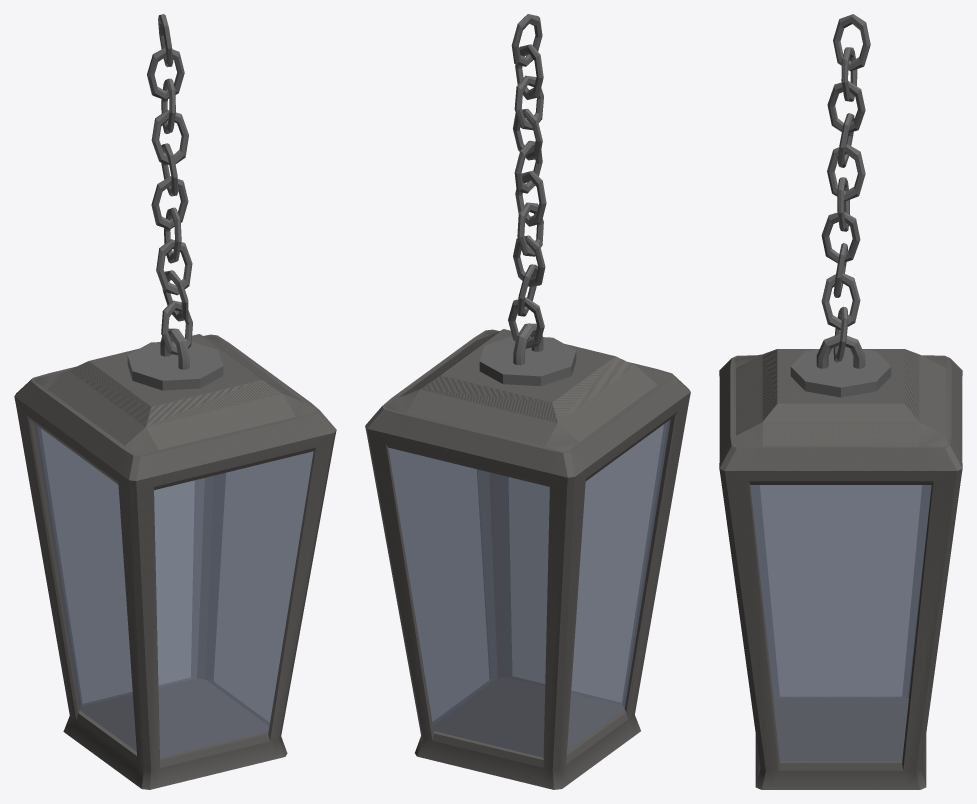
The model's file is Lantern_With_Chain.fbx.
3 renders of one model, left to right at view 1: azimuth 30°, elevation 25°; view 2: azimuth 150°, elevation 25°; view 3: azimuth 270°, elevation 25°, orthographic.
Visible parts, largest first — view 1: pCube5, pCube4, pTorus19, pTorus16, pTorus22, pTorus23, pTorus15, pTorus17, pTorus24, pTorus20; view 2: pCube5, pCube4, pTorus21, pTorus15, pTorus16, pTorus23, pTorus20, pTorus22, pTorus24, pTorus19, pTorus25; view 3: pCube5, pCube4, pTorus21, pTorus17, pTorus25, pTorus24, pTorus20, pTorus22, pTorus23, pTorus15, pTorus19, pTorus16.
Part boxes in pixels (x1=…): pCube5: x1=14, y1=328, x2=336, y2=789; pCube4: x1=34, y1=423, x2=313, y2=757; pTorus19: x1=151, y1=110, x2=188, y2=164; pTorus16: x1=156, y1=239, x2=192, y2=295; pTorus22: x1=147, y1=47, x2=184, y2=100; pTorus23: x1=151, y1=176, x2=188, y2=229; pTorus15: x1=161, y1=300, x2=192, y2=355; pTorus17: x1=162, y1=270, x2=188, y2=321; pTorus24: x1=164, y1=207, x2=181, y2=263; pTorus20: x1=161, y1=78, x2=175, y2=133; pCube5: x1=365, y1=323, x2=690, y2=789; pCube4: x1=388, y1=419, x2=670, y2=757; pTorus21: x1=511, y1=14, x2=542, y2=66; pTorus15: x1=508, y1=297, x2=544, y2=348; pTorus16: x1=513, y1=235, x2=545, y2=286; pTorus23: x1=515, y1=170, x2=546, y2=226; pTorus20: x1=514, y1=75, x2=543, y2=130; pTorus22: x1=515, y1=44, x2=543, y2=99; pTorus24: x1=517, y1=202, x2=543, y2=256; pTorus19: x1=513, y1=109, x2=542, y2=160; pTorus25: x1=514, y1=140, x2=542, y2=193; pCube5: x1=719, y1=333, x2=962, y2=789; pCube4: x1=750, y1=485, x2=931, y2=760; pTorus21: x1=833, y1=14, x2=870, y2=71; pTorus17: x1=821, y1=273, x2=860, y2=329; pTorus25: x1=827, y1=144, x2=865, y2=201; pTorus24: x1=821, y1=211, x2=860, y2=262; pTorus20: x1=827, y1=81, x2=865, y2=132; pTorus22: x1=841, y1=47, x2=857, y2=101; pTorus23: x1=837, y1=177, x2=849, y2=231; pTorus15: x1=833, y1=306, x2=848, y2=362; pTorus19: x1=837, y1=113, x2=854, y2=167; pTorus16: x1=833, y1=243, x2=847, y2=297.
Bounding box in the file's own units: 564 × 1885 × 564.
Materials: 3 (1 with a texture image).
